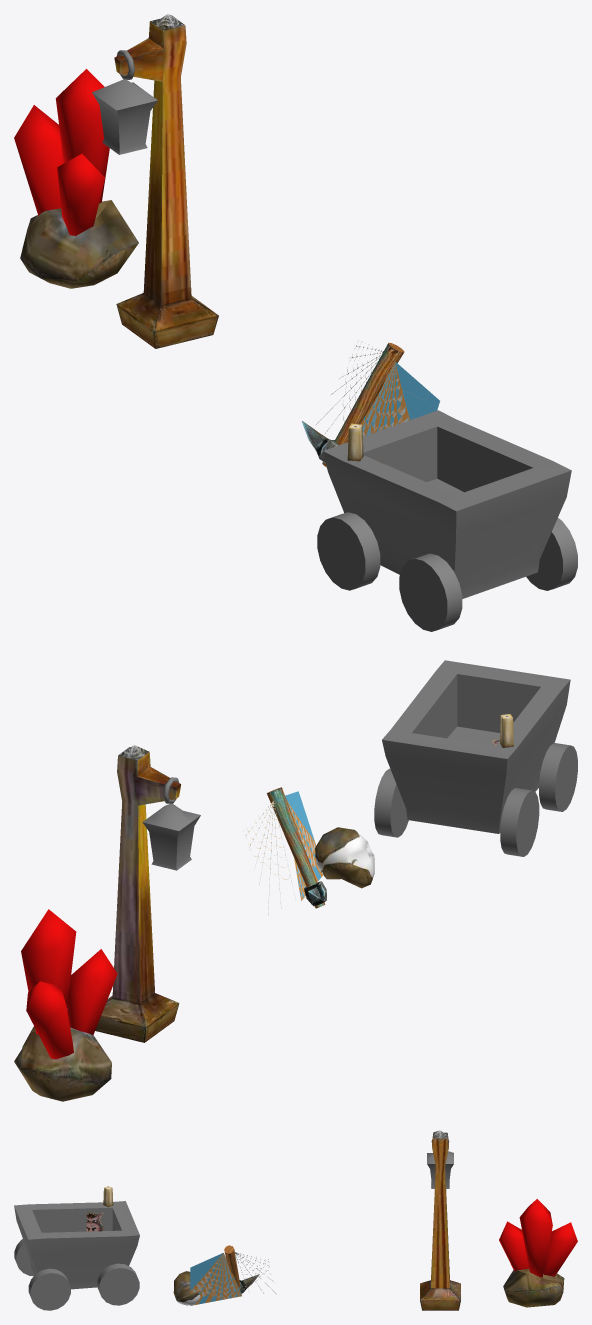
Rendered from OBJETOS.FBX.
3 views of the same model, one above another, from view 1: azimuth 30°, elevation 25°; view 2: azimuth 150°, elevation 25°; view 3: azimuth 270°, elevation 25° (orthographic). The views are drawn at different scales.
Parts seen in each view (by area): view 1: Box003, Box001, pedra, Cylinder003, Cylinder001, crystal low, crystal low001, Box002, Plane002, crystal low002, Cylinder004, Cone001; view 2: Box003, Box001, pedra, crystal low, crystal low002, caveira_low, Box002, crystal low001, Cylinder001, Cylinder003, Cylinder005, Cone001 (+1 smaller); view 3: Box003, Box001, pedra, Plane002, crystal low, Cylinder004, Cylinder005, crystal low001, crystal low002, caveira_low, Box002, Cylinder003 (+2 smaller).
Part boxes in pixels (left/top/right/bottom): Box003: left=323, top=410, right=571, bottom=598; Box001: left=114, top=14, right=218, bottom=348; pedra: left=20, top=200, right=138, bottom=288; Cylinder003: left=399, top=553, right=462, bottom=631; Cylinder001: left=317, top=512, right=380, bottom=590; crystal low: left=55, top=69, right=109, bottom=203; crystal low001: left=14, top=105, right=63, bottom=215; Box002: left=92, top=79, right=157, bottom=154; Plane002: left=360, top=361, right=439, bottom=436; crystal low002: left=57, top=153, right=104, bottom=235; Cylinder004: left=526, top=518, right=577, bottom=590; Cone001: left=322, top=342, right=404, bottom=467; Box003: left=382, top=660, right=570, bottom=833; Box001: left=95, top=745, right=180, bottom=1042; pedra: left=14, top=1026, right=111, bottom=1101; crystal low: left=21, top=909, right=76, bottom=1034; crystal low002: left=67, top=949, right=117, bottom=1034; caveira_low: left=315, top=827, right=374, bottom=888; Box002: left=142, top=803, right=200, bottom=870; crystal low001: left=26, top=981, right=73, bottom=1059; Cylinder001: left=500, top=788, right=539, bottom=856; Cylinder003: left=539, top=743, right=577, bottom=811; Cylinder005: left=374, top=768, right=408, bottom=837; Cone001: left=266, top=787, right=325, bottom=908; Box003: left=14, top=1201, right=139, bottom=1289; Box001: left=420, top=1130, right=460, bottom=1310; pedra: left=503, top=1268, right=564, bottom=1307; Plane002: left=190, top=1253, right=241, bottom=1305; crystal low: left=519, top=1199, right=552, bottom=1277; Cylinder004: left=28, top=1268, right=70, bottom=1310; Cylinder005: left=97, top=1263, right=139, bottom=1305; crystal low001: left=543, top=1222, right=577, bottom=1276; crystal low002: left=499, top=1221, right=528, bottom=1271; caveira_low: left=173, top=1271, right=200, bottom=1305; Box002: left=427, top=1151, right=453, bottom=1188; Cylinder003: left=14, top=1239, right=34, bottom=1276.
Size of the model in its own units: 65.99 by 109 by 320.
